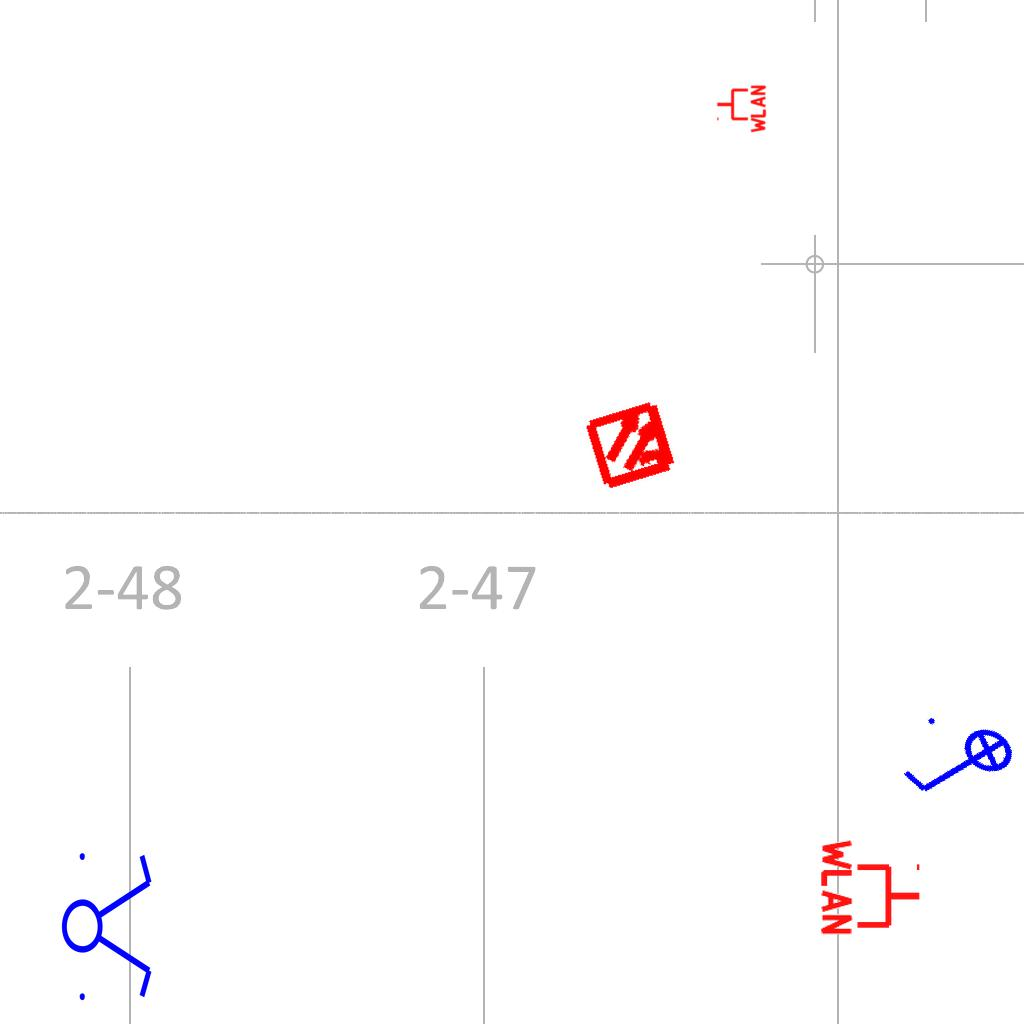Ausschalter_beleuchtet: (889, 697, 1024, 835)
OT_Multisensormelder_(Kombination_RMO_WMD): (561, 373, 704, 516)
Serienschalter: (60, 841, 156, 1009)
WLAN: (819, 835, 924, 939), (715, 83, 767, 135)
